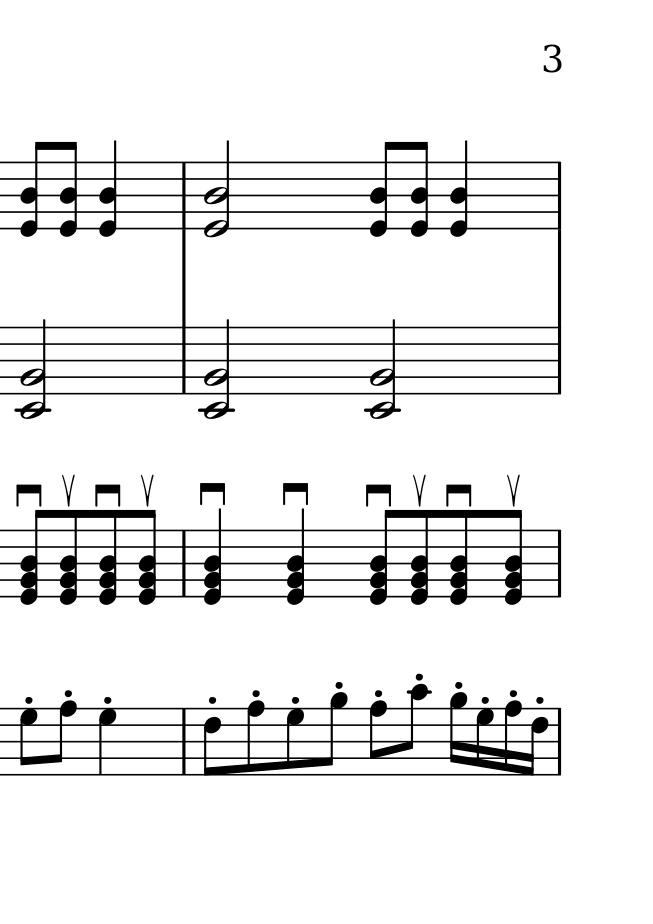16_6: (526, 708, 549, 776)
16_7: (475, 707, 495, 778)
16_8: (502, 700, 523, 778)
16_9: (449, 692, 468, 776)
2_-2_2: (16, 319, 50, 420), (199, 318, 233, 419), (367, 319, 401, 420)
2_0_4: (203, 139, 232, 238)
3: (542, 42, 564, 74)
4_0_4: (99, 140, 120, 238), (449, 141, 470, 239)
4_7: (98, 708, 116, 778)
4_th: (283, 505, 306, 607), (202, 506, 224, 608)
8_0_4: (20, 140, 47, 237), (367, 141, 394, 238), (57, 141, 78, 239), (408, 141, 429, 239)
8_10: (403, 683, 431, 778)
8_6: (203, 708, 221, 778)
8_7: (19, 707, 37, 778), (285, 706, 303, 777)
8_8: (54, 699, 78, 777), (368, 700, 388, 777), (246, 700, 265, 777)
8_9: (323, 692, 349, 777)
8_th: (366, 506, 396, 607), (20, 508, 49, 607), (59, 506, 82, 608), (505, 507, 527, 603), (410, 508, 431, 608), (138, 507, 159, 606), (98, 509, 119, 605), (450, 509, 470, 608)
Down_bow: (195, 479, 229, 507), (280, 479, 311, 508), (12, 480, 44, 508), (90, 480, 123, 507), (443, 480, 473, 508), (363, 482, 395, 508)
Single_barline: (551, 163, 567, 228), (551, 328, 567, 393), (176, 529, 191, 597), (177, 162, 192, 229), (552, 530, 567, 597), (177, 708, 192, 774), (176, 328, 191, 392), (553, 708, 567, 776)
Tremolo_bar: (58, 472, 78, 507), (140, 473, 157, 506), (413, 474, 428, 508), (505, 472, 519, 507)
